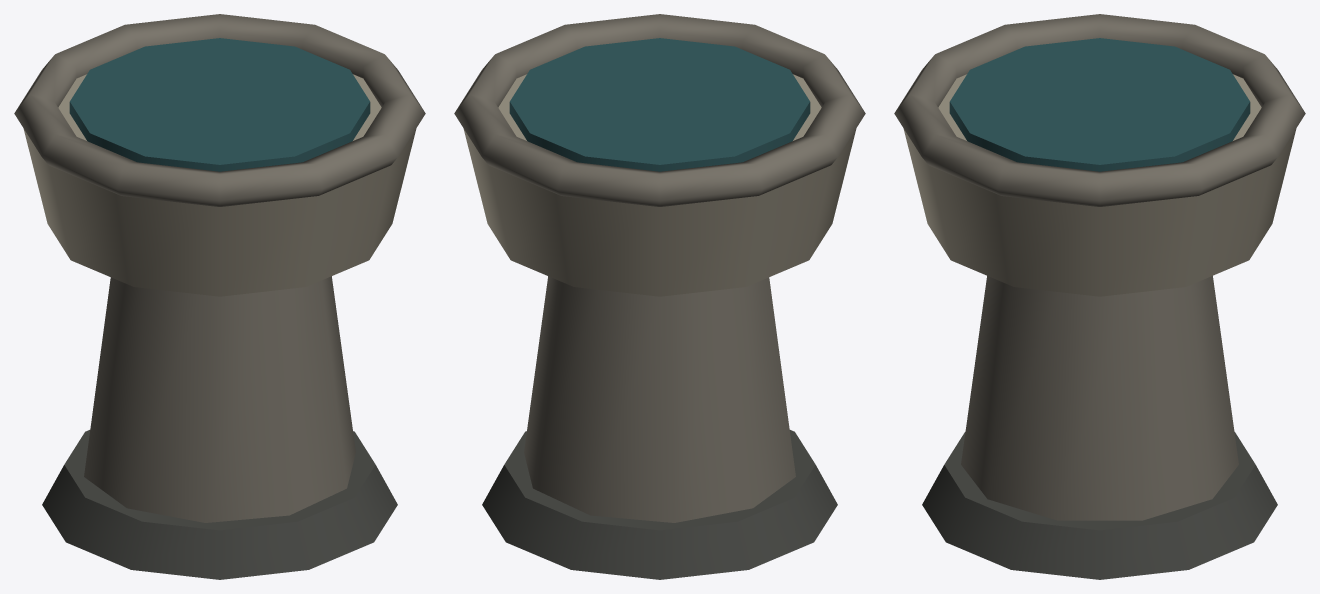
File: font_basin.glb
3 views of the same model, side by side, from view 1: azimuth 30°, elevation 25°; view 2: azimuth 150°, elevation 25°; view 3: azimuth 270°, elevation 25° (orthographic).
Parts seen in each view (by area): view 1: font_basin; view 2: font_basin; view 3: font_basin.
Part boxes in pixels (bbox=[...]): font_basin: bbox=[14, 14, 425, 579]; font_basin: bbox=[454, 14, 865, 579]; font_basin: bbox=[894, 14, 1305, 579].
Size of the model in its own units: 1 by 1.1 by 1.
Materials: 1 (1 with a texture image).
